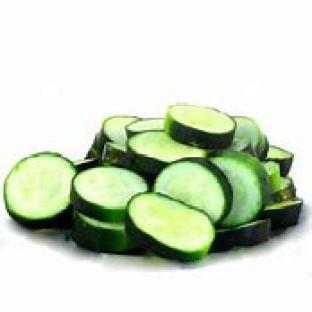Zucchini: (126, 193, 215, 261), (4, 153, 77, 228), (155, 158, 233, 223), (210, 151, 268, 227), (72, 167, 148, 221), (128, 132, 206, 175), (165, 105, 234, 149), (70, 212, 134, 253), (212, 221, 270, 251), (235, 117, 268, 159), (260, 200, 303, 230), (99, 117, 138, 147), (268, 146, 294, 176), (101, 143, 132, 168), (126, 118, 164, 136), (271, 177, 295, 202), (264, 162, 281, 194), (228, 137, 254, 154), (87, 134, 103, 159), (257, 132, 268, 161), (74, 158, 98, 171)
